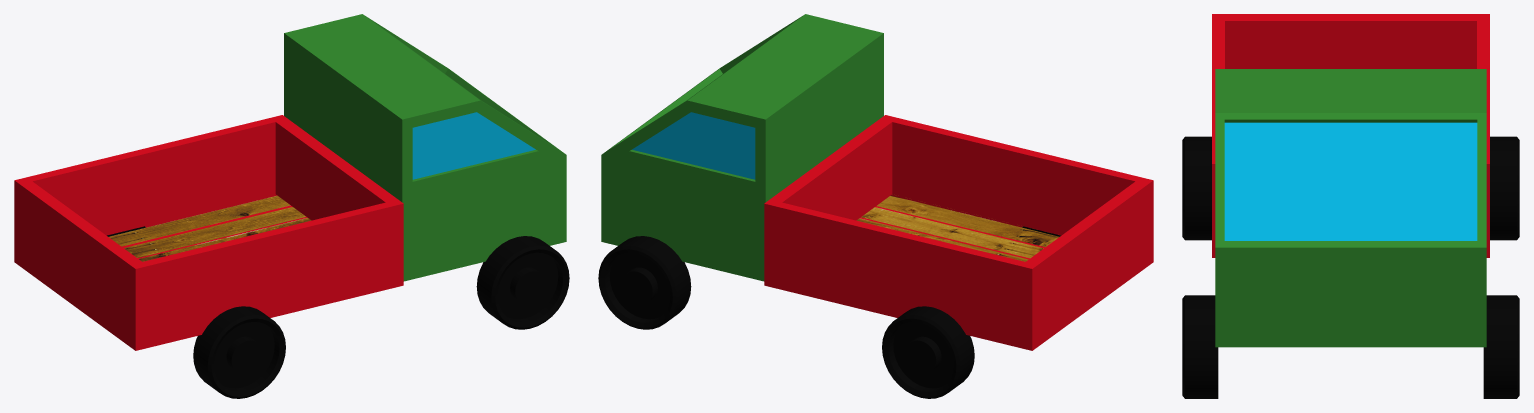
File: truck.fbx
3 renders of one model, left to right at view 1: azimuth 30°, elevation 25°; view 2: azimuth 150°, elevation 25°; view 3: azimuth 270°, elevation 25°, orthographic. The views are drawn at different scales.
Parts seen in each view (by area): view 1: SM_Truck_Boot; view 2: SM_Truck_Boot; view 3: SM_Truck_Boot.
Part boxes in pixels (bbox=[...]): SM_Truck_Boot: bbox=[14, 14, 569, 398]; SM_Truck_Boot: bbox=[598, 14, 1153, 398]; SM_Truck_Boot: bbox=[1182, 14, 1519, 398].
Size of the model in its own units: 442 by 222 by 260.
